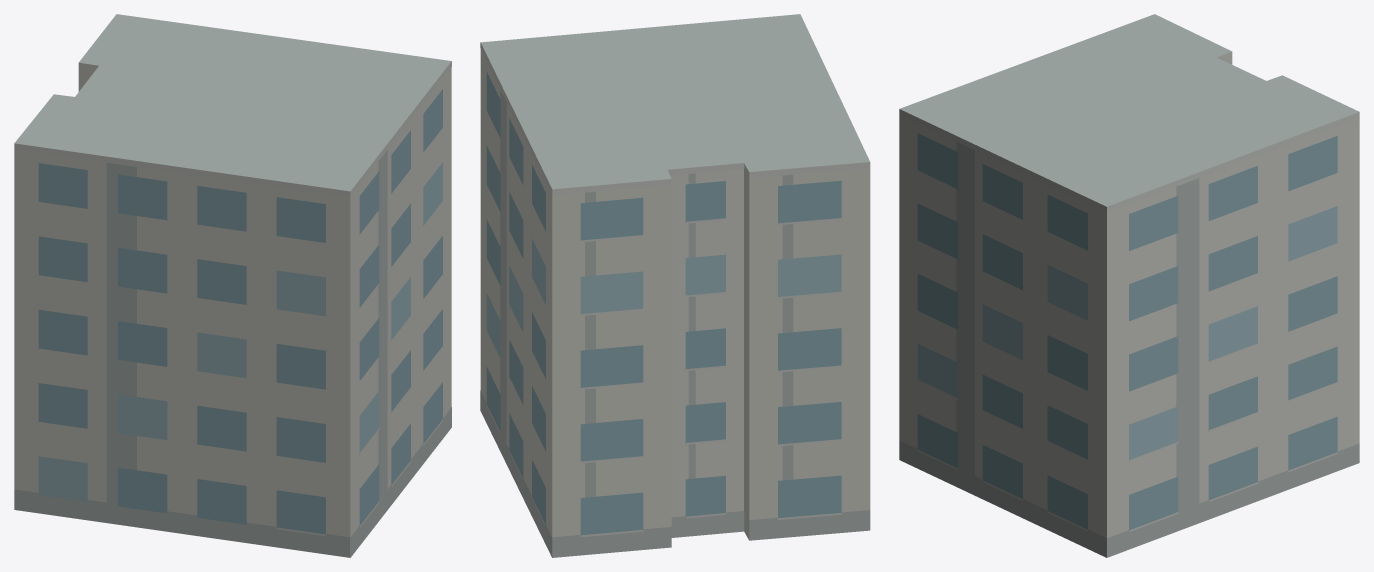
The model's file is survey-upis-32850322.glb.
3 views of the same model, side by side, from view 1: azimuth 30°, elevation 25°; view 2: azimuth 150°, elevation 25°; view 3: azimuth 270°, elevation 25° (orthographic). The views are drawn at different scales.
Visible parts, largest first — view 1: survey-upis-32850322.tmp; view 2: survey-upis-32850322.tmp; view 3: survey-upis-32850322.tmp.
Part boxes in pixels (left/top/right/bottom): survey-upis-32850322.tmp: left=14, top=14, right=451, bottom=557; survey-upis-32850322.tmp: left=480, top=14, right=870, bottom=557; survey-upis-32850322.tmp: left=899, top=14, right=1359, bottom=557.
Bounding box in the file's own units: 17.09 × 14.5 × 17.24.
